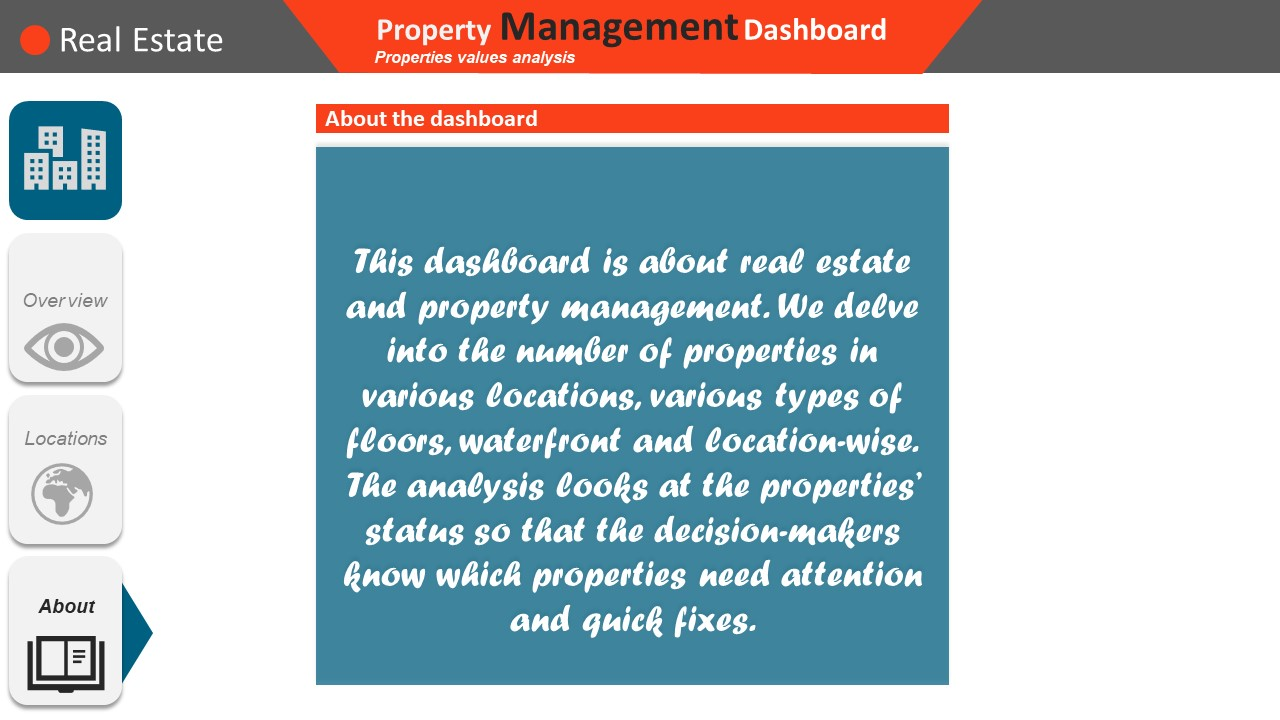

This screenshot's page, from the dashboard's own definition file:
{"tool":"powerbi","page":{"name":"About","canvas":[1280,720],"ordinal":2},"visuals":[{"type":"card","box":[1006.6,664.5,12.4,12.4],"z":0},{"type":"actionButton","box":[11.4,231.4,108.6,147.1],"z":1000},{"type":"actionButton","box":[11.4,398.6,108.6,147.1],"z":2000},{"type":"actionButton","box":[11.4,561.4,108.6,147.1],"z":3000}]}

Visuals, with their boxes in screenshot pixels (x1, y1, x2, y2), scaled from the page's 1280x720 canvas onto the 1280x720 screenshot:
card: [1007,664,1019,677]
actionButton: [11,231,120,378]
actionButton: [11,399,120,546]
actionButton: [11,561,120,708]
